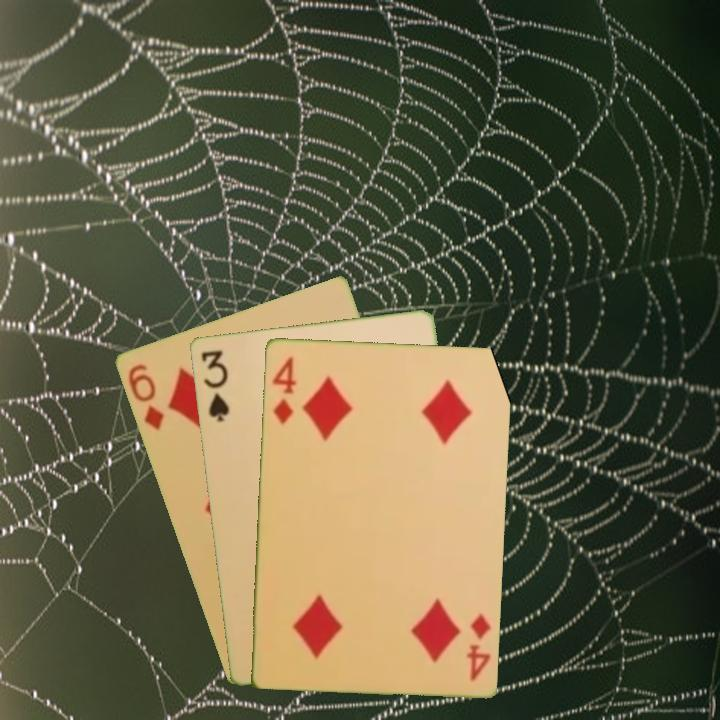3s: (197, 346, 232, 425)
4d: (462, 610, 494, 683), (268, 352, 299, 427)
6d: (124, 360, 166, 433)
